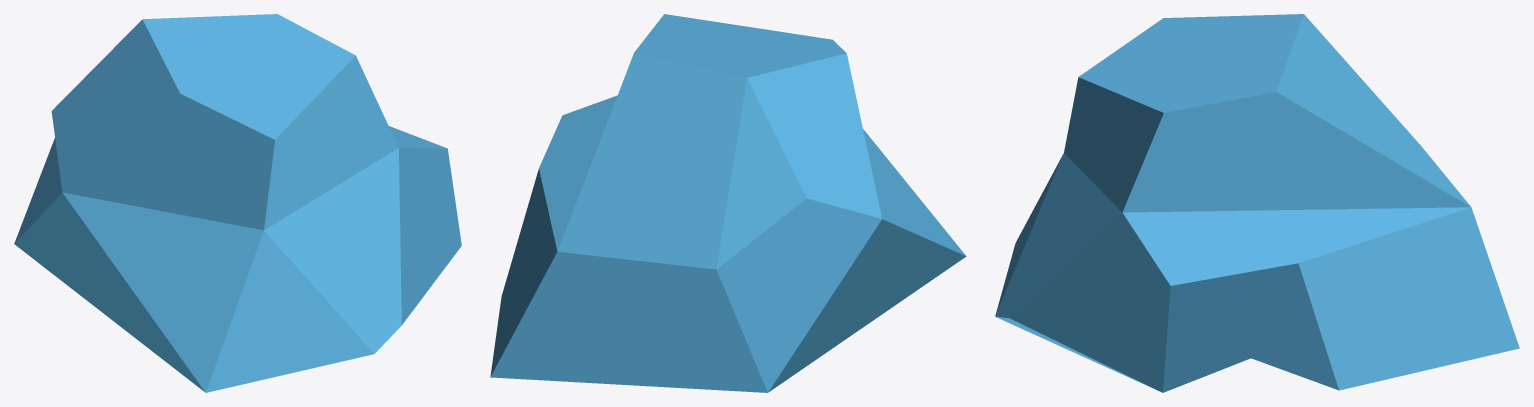
File: Mesh_Rock1.fbx
3 views of the same model, side by side, from view 1: azimuth 30°, elevation 25°; view 2: azimuth 150°, elevation 25°; view 3: azimuth 270°, elevation 25° (orthographic). The views are drawn at different scales.
Visible parts, largest first — view 1: Rocher1; view 2: Rocher1; view 3: Rocher1.
Part boxes in pixels (x1,y1,x2,y2): Rocher1: (14,14,461,392); Rocher1: (490,14,966,392); Rocher1: (995,14,1519,392).
Size of the model in its own units: 345 by 240 by 419.
